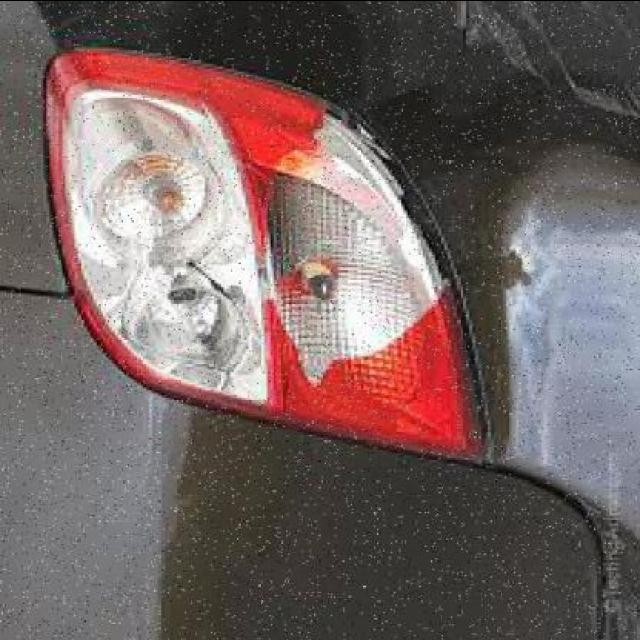Signlight-Damage: (248, 94, 465, 406)
Taillight-Damage: (36, 43, 497, 459)
